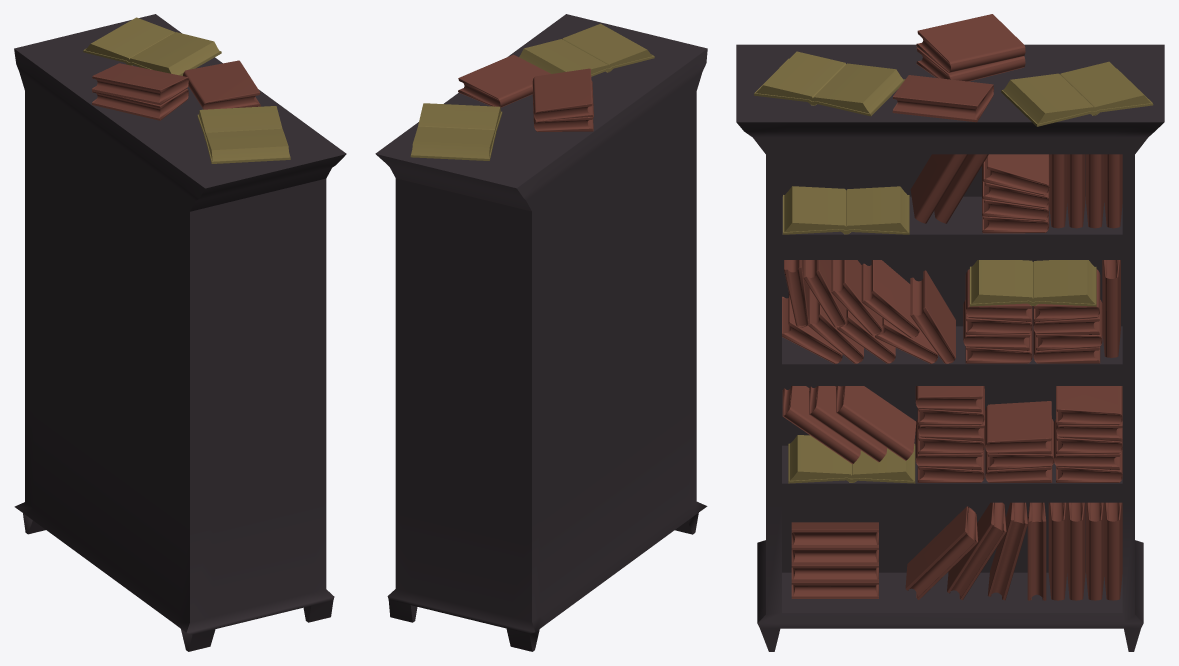
Rendered from Estante_Com_Livros_C.fbx.
3 views of the same model, side by side, from view 1: azimuth 30°, elevation 25°; view 2: azimuth 150°, elevation 25°; view 3: azimuth 270°, elevation 25° (orthographic). The views are drawn at different scales.
Visible parts, largest first — view 1: Estante_G, Livro_Aberto_03, Livro_Aberto_05, Livro_Fechado_028, Livro_Fechado_026, Livro_Fechado_027; view 2: Estante_G, Livro_Aberto_03, Livro_Aberto_05, Livro_Fechado_028, Livro_Fechado_026, Livro_Fechado_027; view 3: Estante_G, Livro_Aberto_02, Livro_Aberto_03, Livro_Aberto_05, Livro_Aberto_06, Livro_Fechado_026, Livro_Aberto_01, Livro_Fechado_028, Livro_Fechado_058, Livro_Fechado_050, Livro_Fechado_04, Livro_Fechado_045 (+54 smaller).
Boxes of the visible parts, <box> form: Estante_G: <box>14,14,346,651</box>; Livro_Aberto_03: <box>83,17,221,75</box>; Livro_Aberto_05: <box>197,106,290,163</box>; Livro_Fechado_028: <box>183,60,260,109</box>; Livro_Fechado_026: <box>92,63,188,105</box>; Livro_Fechado_027: <box>92,89,188,120</box>; Estante_G: <box>375,14,707,651</box>; Livro_Aberto_03: <box>410,103,502,160</box>; Livro_Aberto_05: <box>519,23,654,76</box>; Livro_Fechado_028: <box>458,54,550,107</box>; Livro_Fechado_026: <box>532,68,593,120</box>; Livro_Fechado_027: <box>532,93,593,131</box>; Estante_G: <box>736,44,1164,651</box>; Livro_Aberto_02: <box>782,186,909,234</box>; Livro_Aberto_03: <box>1001,61,1153,126</box>; Livro_Aberto_05: <box>754,51,905,116</box>; Livro_Aberto_06: <box>969,260,1096,306</box>; Livro_Fechado_026: <box>916,14,1025,73</box>; Livro_Aberto_01: <box>788,435,915,483</box>; Livro_Fechado_028: <box>892,75,993,122</box>; Livro_Fechado_058: <box>985,401,1051,454</box>; Livro_Fechado_050: <box>835,386,916,460</box>; Livro_Fechado_04: <box>905,506,978,599</box>; Livro_Fechado_045: <box>861,260,919,338</box>.
Bounding box in the file's own units: 99.08 × 298 × 205.
